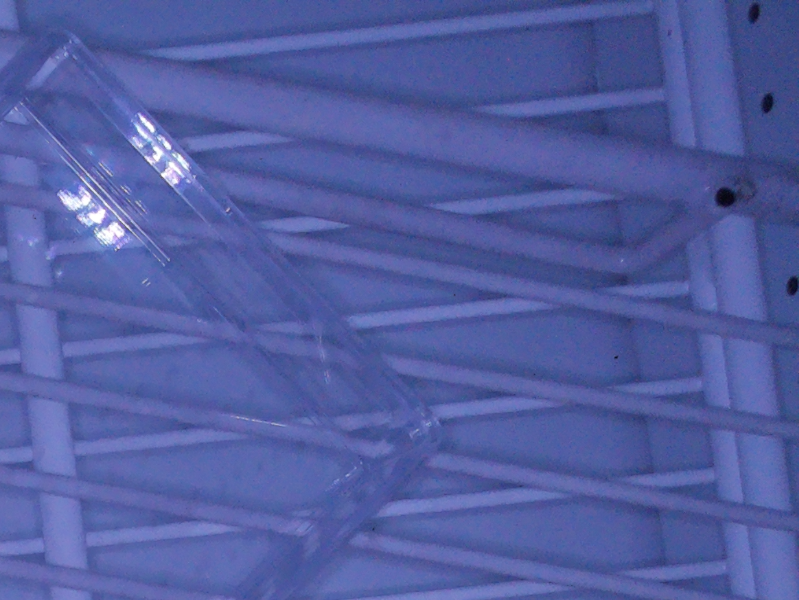plate: (1, 22, 446, 600)
